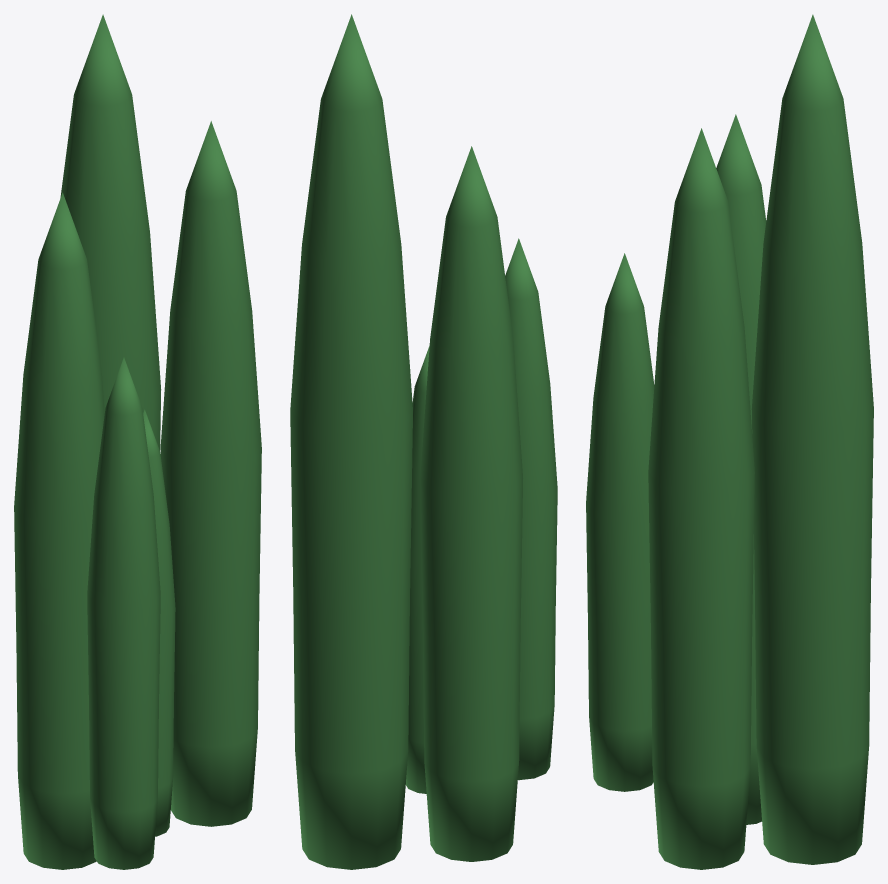
The model's file is plant 4.fbx.
3 views of the same model, side by side, from view 1: azimuth 30°, elevation 25°; view 2: azimuth 150°, elevation 25°; view 3: azimuth 270°, elevation 25° (orthographic). The views are drawn at different scales.
Parts seen in each view (by area): view 1: Plant 5; view 2: Plant 5; view 3: Plant 5.
Part boxes in pixels (bbox=[...]): Plant 5: bbox=[14, 14, 261, 869]; Plant 5: bbox=[290, 14, 557, 869]; Plant 5: bbox=[586, 14, 873, 869].
Bounding box in the file's own units: 28.52 × 91.16 × 26.22.
